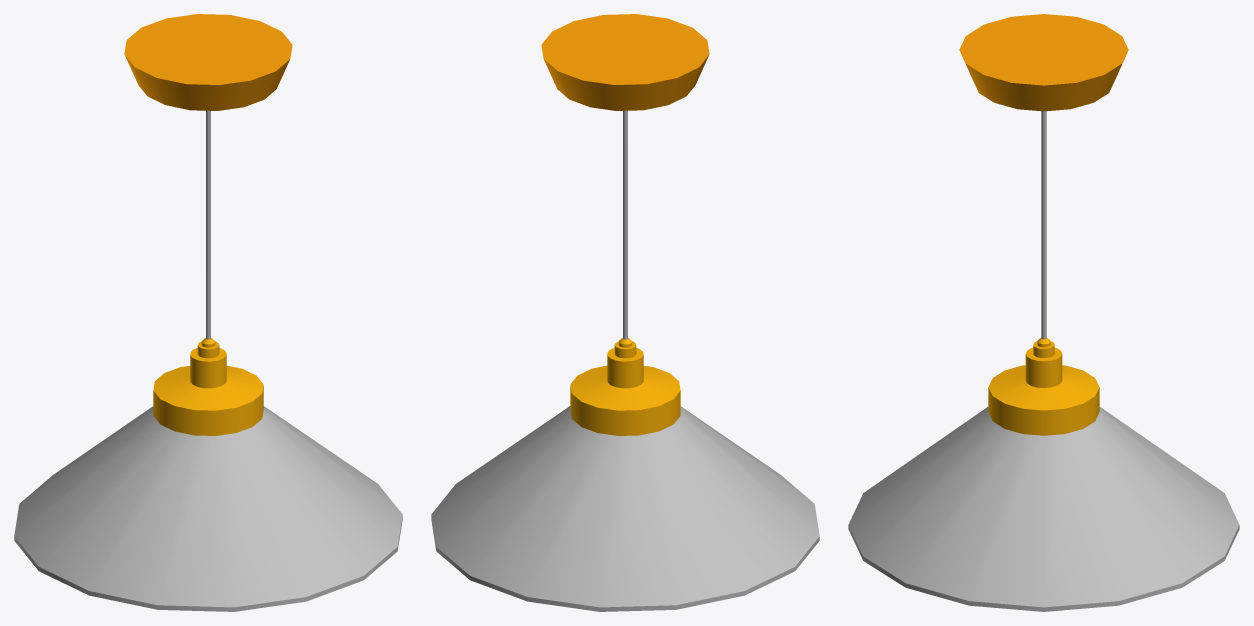
Rendered from Lamp05.fbx.
3 renders of one model, left to right at view 1: azimuth 30°, elevation 25°; view 2: azimuth 150°, elevation 25°; view 3: azimuth 270°, elevation 25°, orthographic.
Visible parts, largest first — view 1: Lamp05; view 2: Lamp05; view 3: Lamp05.
Boxes of the visible parts, x1,y1,x2,y2 form: Lamp05: [14, 14, 402, 611]; Lamp05: [431, 14, 819, 611]; Lamp05: [848, 14, 1239, 611].
Bounding box in the file's own units: 0.5554 × 0.5554 × 0.7512.
